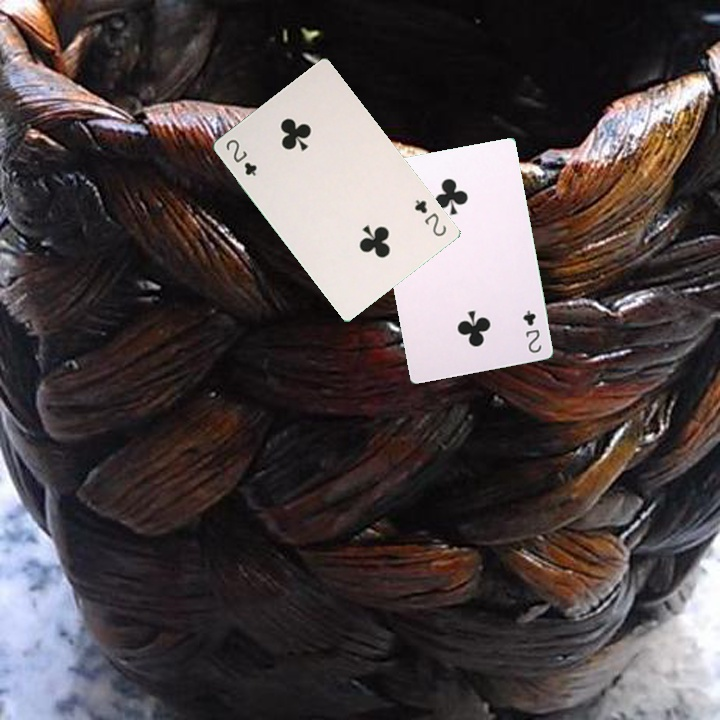2c: (410, 195, 449, 239), (222, 135, 259, 179), (519, 306, 544, 355)
